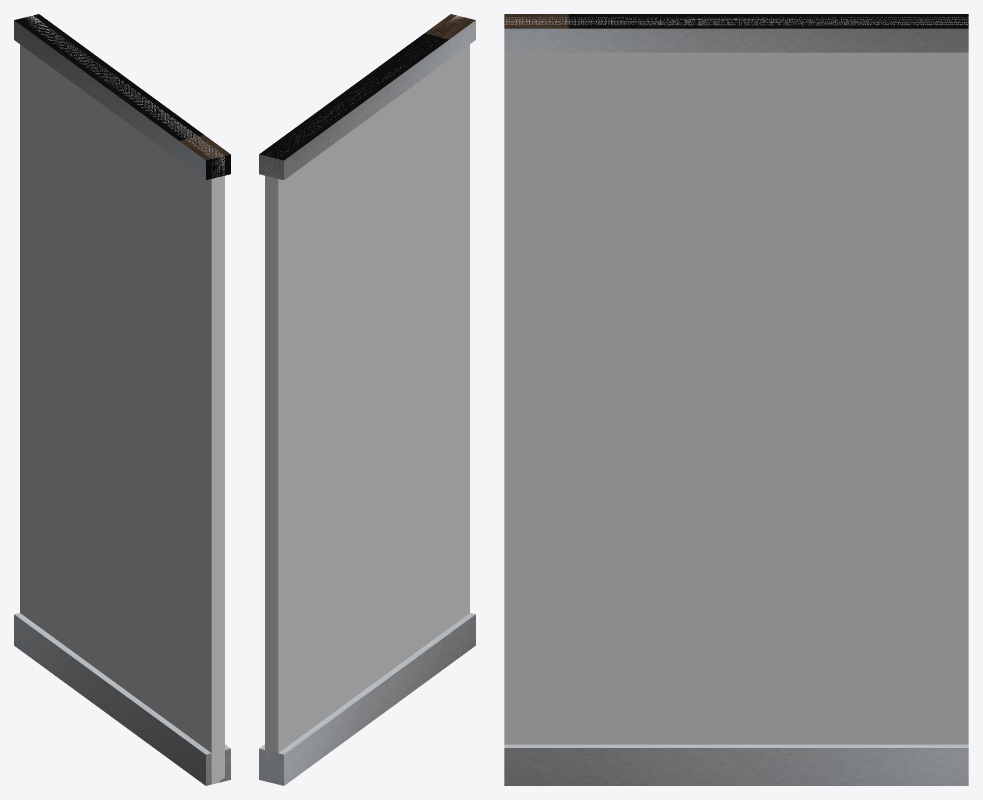
File: GlassDoor01.FBX
3 views of the same model, side by side, from view 1: azimuth 30°, elevation 25°; view 2: azimuth 150°, elevation 25°; view 3: azimuth 270°, elevation 25° (orthographic). The views are drawn at different scales.
Visible parts, largest first — view 1: DoorGlass002, DoorGlassFrame002; view 2: DoorGlass002, DoorGlassFrame002; view 3: DoorGlass002, DoorGlassFrame002.
Part boxes in pixels (box(x1,y1,x2,y2)): DoorGlass002: box(20, 15, 224, 784); DoorGlassFrame002: box(14, 14, 230, 785); DoorGlass002: box(265, 16, 469, 783); DoorGlassFrame002: box(259, 14, 475, 785); DoorGlass002: box(504, 17, 968, 744); DoorGlassFrame002: box(504, 14, 968, 785).
Size of the model in its own units: 20.98 by 500 by 278.
